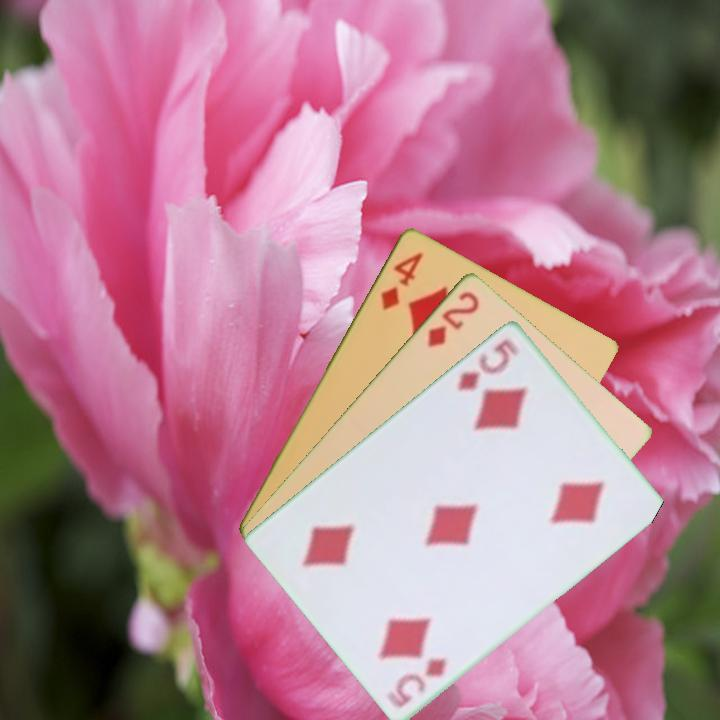2d: (423, 287, 482, 350)
4d: (376, 248, 426, 313)
5d: (454, 334, 521, 394), (383, 653, 449, 710)
